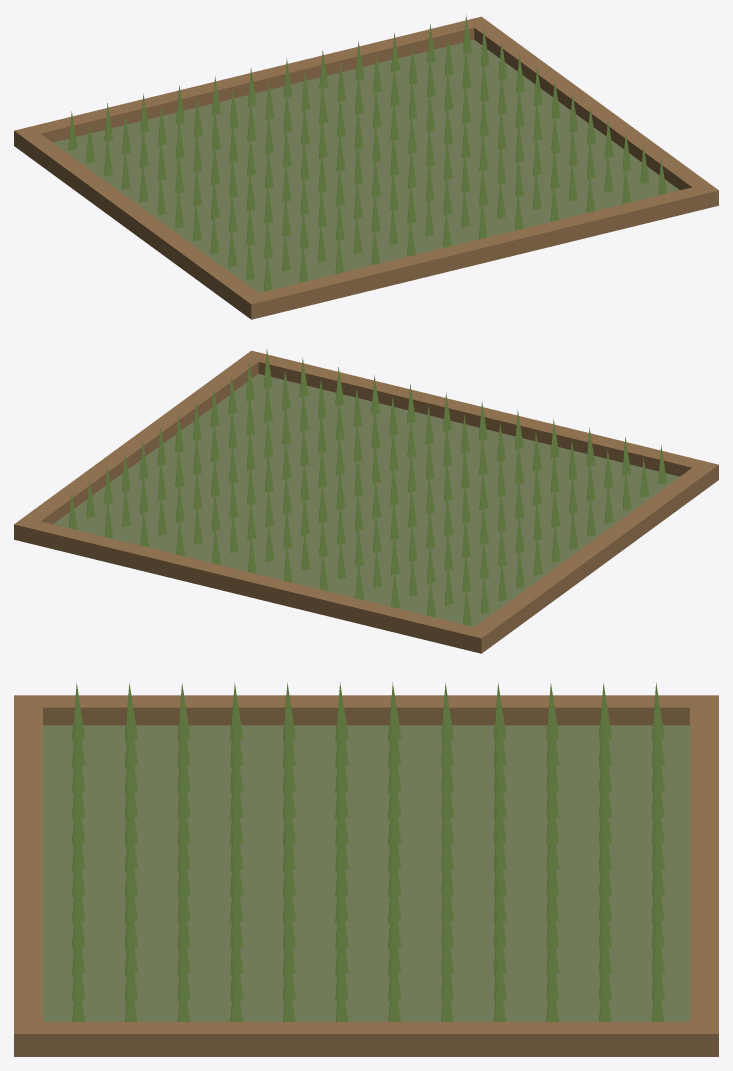
The model's file is paddy-normal.glb.
3 renders of one model, top to bottom at view 1: azimuth 30°, elevation 25°; view 2: azimuth 150°, elevation 25°; view 3: azimuth 270°, elevation 25°, orthographic. The views are drawn at different scales.
Visible parts, largest first — view 1: paddy; view 2: paddy; view 3: paddy.
Boxes of the visible parts, <box> form: paddy: <box>14,15,718,319</box>; paddy: <box>14,349,718,653</box>; paddy: <box>14,682,718,1056</box>.
Size of the model in its own units: 8.3 by 0.7225 by 7.3.
